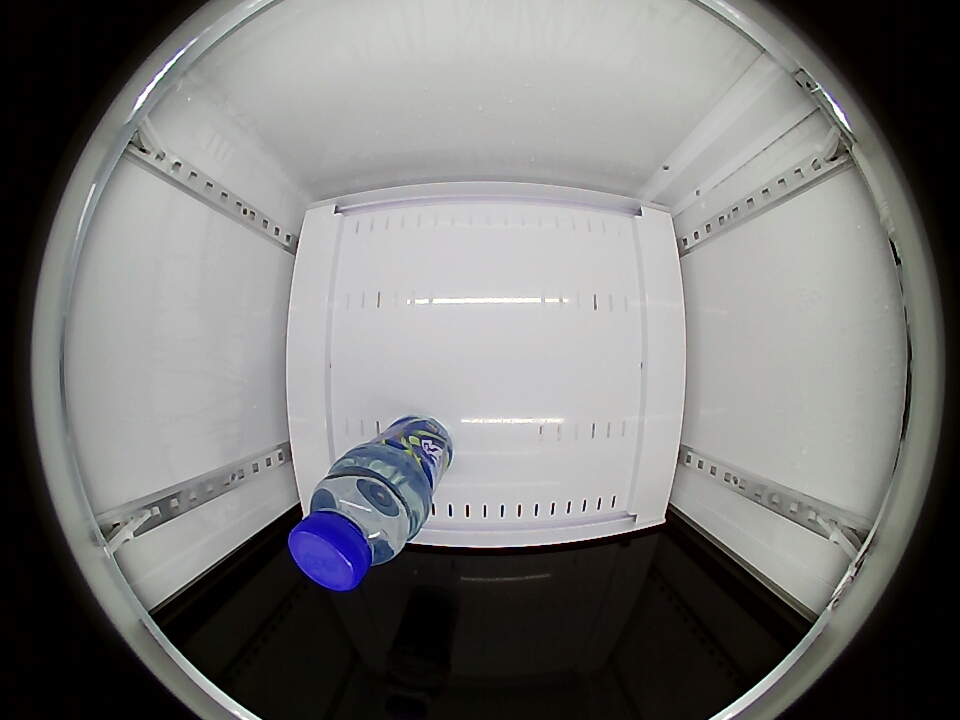maidong: (288, 464, 418, 592)
